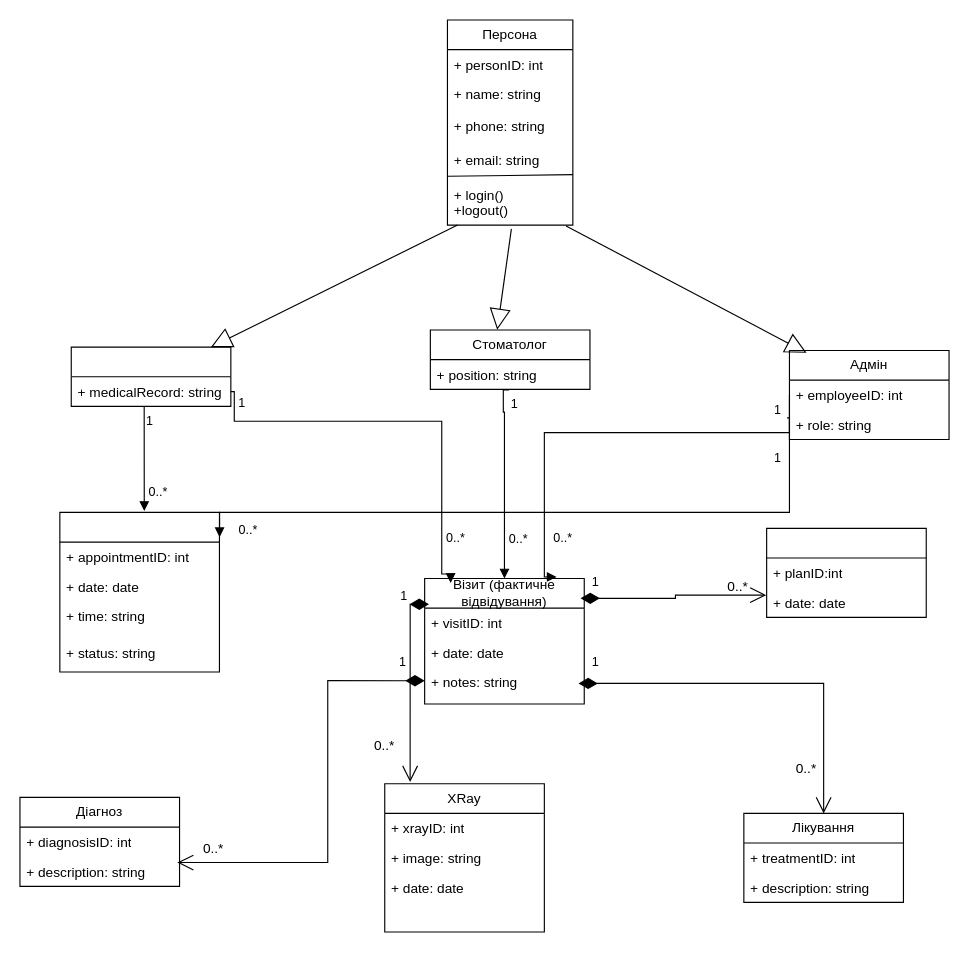
This 969x955 diagram has some shape labels left out. The shapes that lost their labels are listed below. From the top down, each one's box as (x1, y1, x2, y2) in pixels, then its label:
(70, 346, 231, 406): Пацієнт
(59, 511, 219, 672): Зустріч (планування)
(766, 527, 926, 617): План лікування
